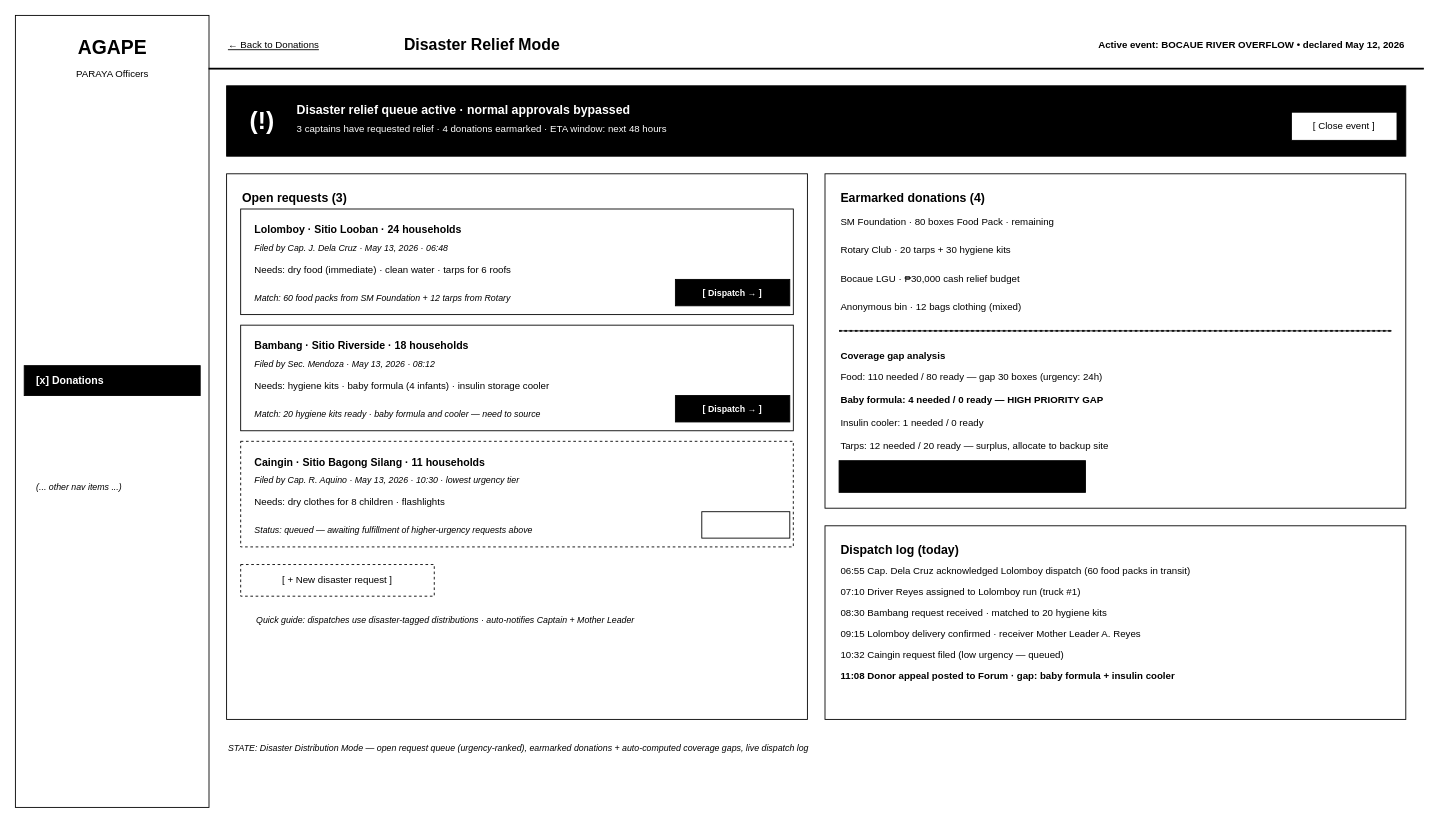
Image size: 1439x823. Some labels were removed from this diagram. Here are the shapes that lost their labels. From the top down, the centre of each, then its label:
At point 961,476: "[ Broadcast donor appeal → ]".
At point 745,524: "[ Hold ]".
